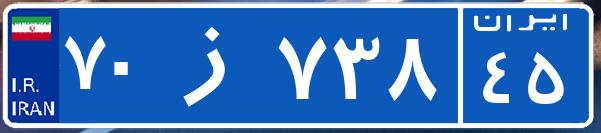0: (110, 28, 158, 105)
3: (330, 28, 385, 110)
4: (475, 38, 525, 113)
5: (525, 38, 570, 115)
7: (273, 28, 330, 110), (57, 26, 110, 107)
8: (385, 28, 445, 110)
ز: (158, 15, 273, 115)
